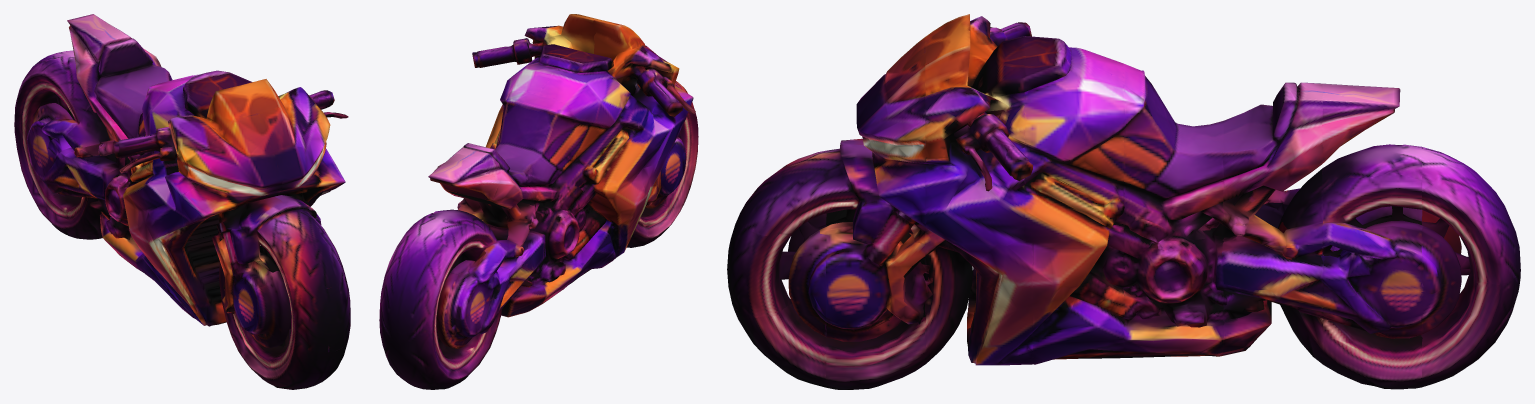
File: motorcycle-compressed.glb
3 views of the same model, side by side, from view 1: azimuth 30°, elevation 25°; view 2: azimuth 150°, elevation 25°; view 3: azimuth 270°, elevation 25° (orthographic). The views are drawn at different scales.
Visible parts, largest first — view 1: tmpb1xlojmwobj; view 2: tmpb1xlojmwobj; view 3: tmpb1xlojmwobj.
Part boxes in pixels (x1,y1,x2,y2): tmpb1xlojmwobj: [14, 14, 350, 389]; tmpb1xlojmwobj: [379, 14, 698, 389]; tmpb1xlojmwobj: [727, 14, 1520, 389].
Bounding box in the file's own units: 0.4423 × 0.4917 × 0.9991.
Materials: 1 (1 with a texture image).
